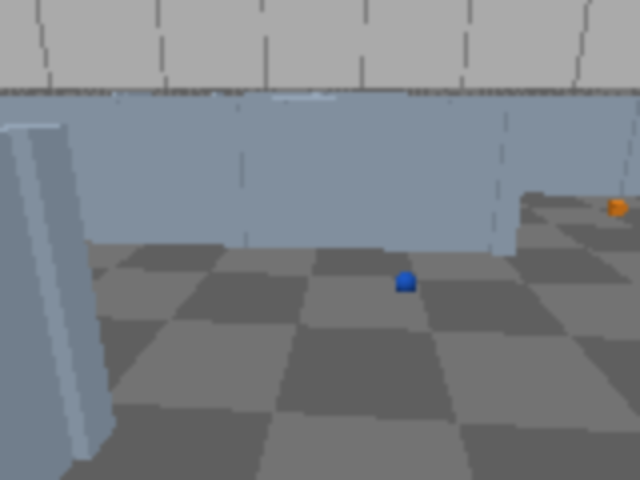puck: (390, 267, 423, 299), (607, 201, 628, 217)
